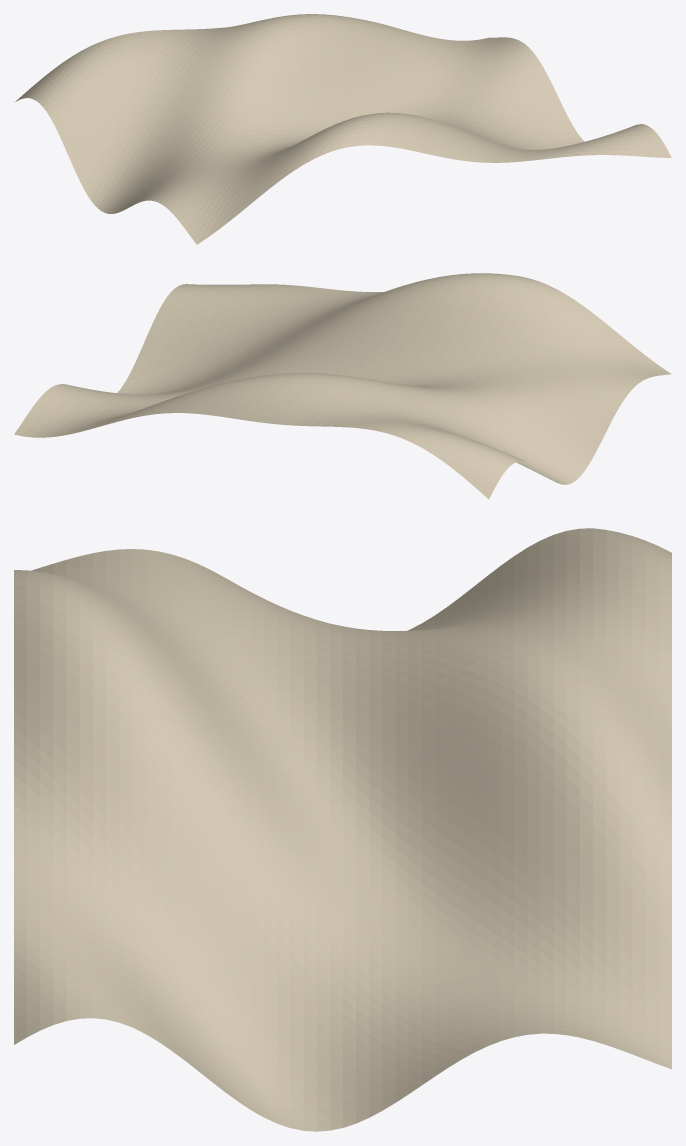
The model's file is dense-prop.glb.
3 renders of one model, top to bottom at view 1: azimuth 30°, elevation 25°; view 2: azimuth 150°, elevation 25°; view 3: azimuth 270°, elevation 25°, orthographic. The views are drawn at different scales.
Parts seen in each view (by area): view 1: Ridge; view 2: Ridge; view 3: Ridge.
Part boxes in pixels (<box>): Ridge: <box>14,14,671,244</box>; Ridge: <box>14,273,671,499</box>; Ridge: <box>14,528,671,1131</box>.
Bounding box in the file's own units: 1.2 × 0.3461 × 0.8.
